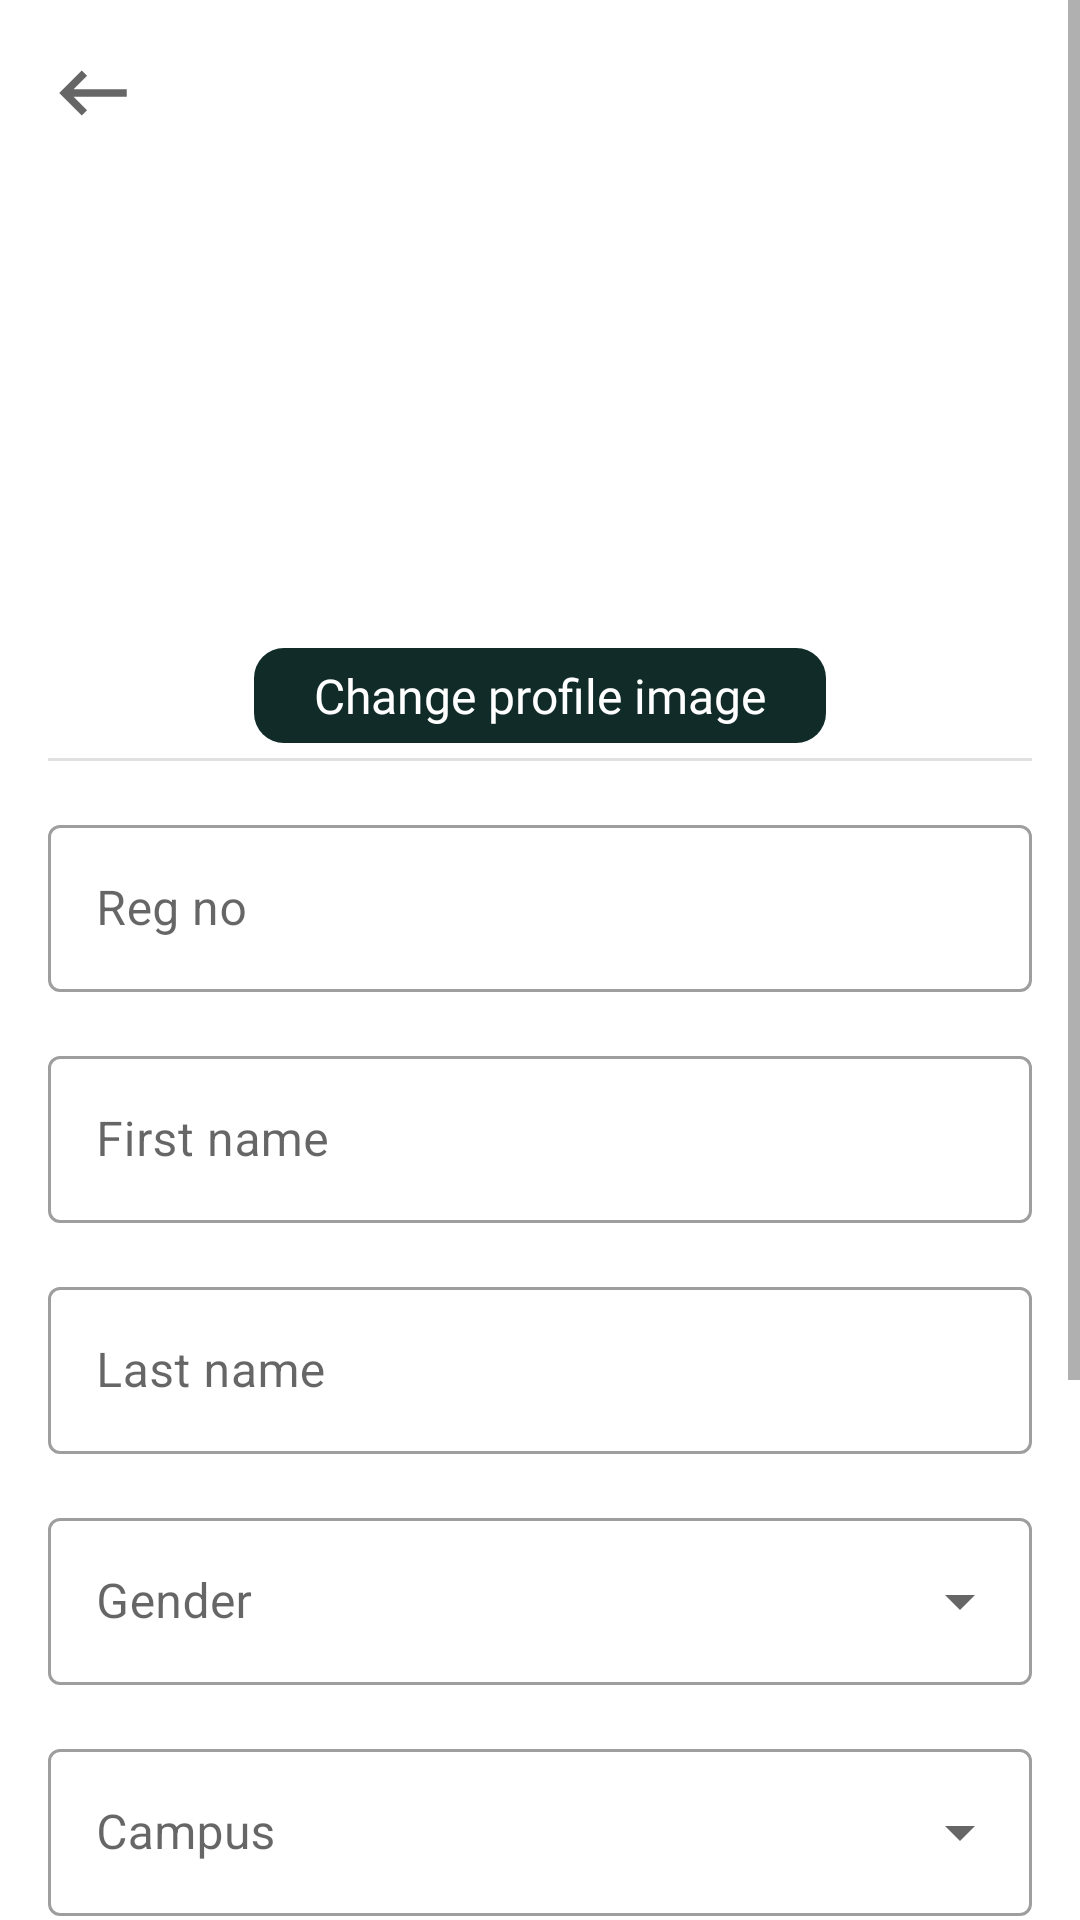

Named icons in this screenshot (1080 × 1920) and their bounding boxes, detection(x1, y1, x2, y2):
back arrow: detection(59, 70, 127, 116)
